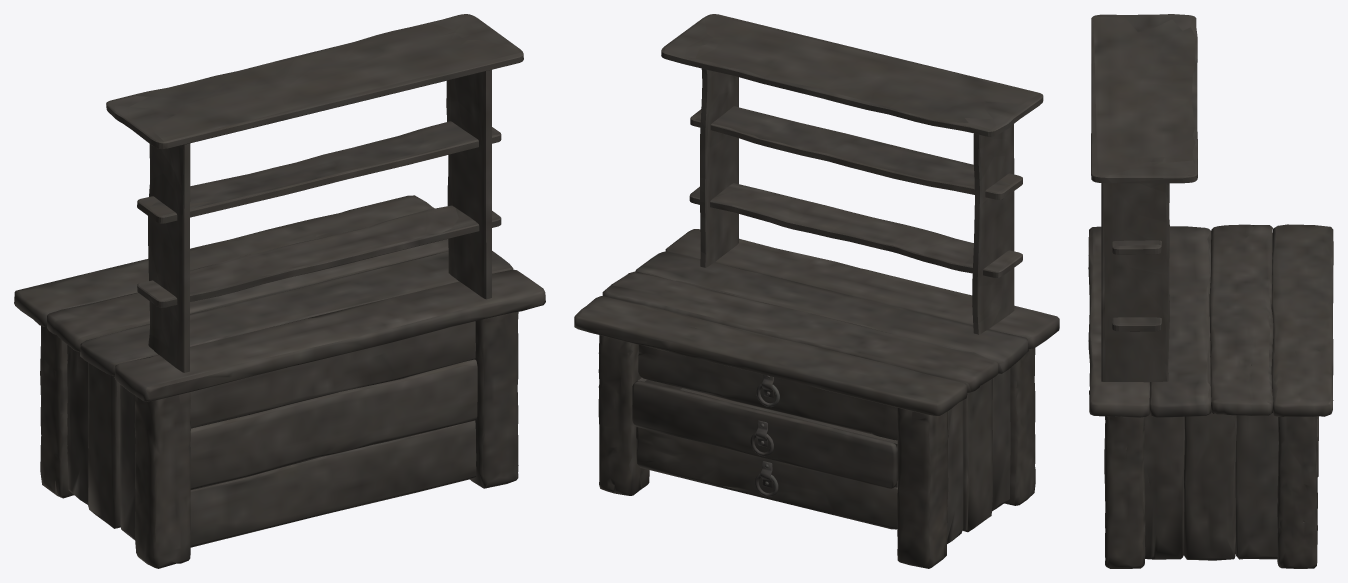
Rendered from Dresser_01.fbx.
The picture shows the model from 3 angles, left to right: view 1: azimuth 30°, elevation 25°; view 2: azimuth 150°, elevation 25°; view 3: azimuth 270°, elevation 25°; orthographic projection. The views are drawn at different scales.
Visible parts, largest first — view 1: Dresser_01_Wood, Dresser_Shelf_01; view 2: Dresser_01_Wood, Dresser_Shelf_01, Dresser_01_Metall; view 3: Dresser_01_Wood, Dresser_Shelf_01.
Boxes of the visible parts, x1,y1,x2,y2 form: Dresser_01_Wood: (14,195,545,568); Dresser_Shelf_01: (106,14,523,372); Dresser_01_Wood: (574,229,1059,568); Dresser_Shelf_01: (661,14,1043,334); Dresser_01_Metall: (750,374,779,497); Dresser_01_Wood: (1088,224,1333,568); Dresser_Shelf_01: (1091,14,1197,382).
Size of what is drawn, in the model's own units: 189 by 194 by 109.
